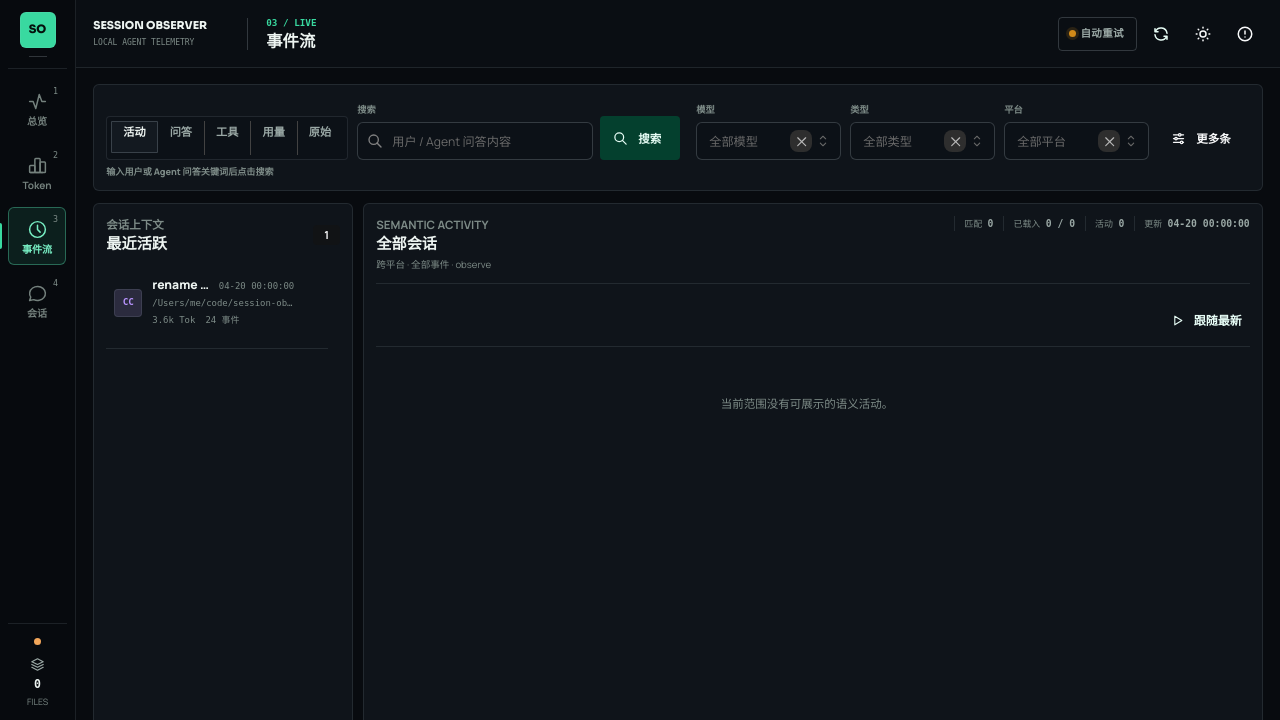
Test: App URL state › shows loading feedback while a submitted stream search is running
This screenshot has width=1280, height=720.
Type "incident" into the field with placeholder "用户 / Agent 问答内容". click: (475, 141)
box: [357,122,593,160]
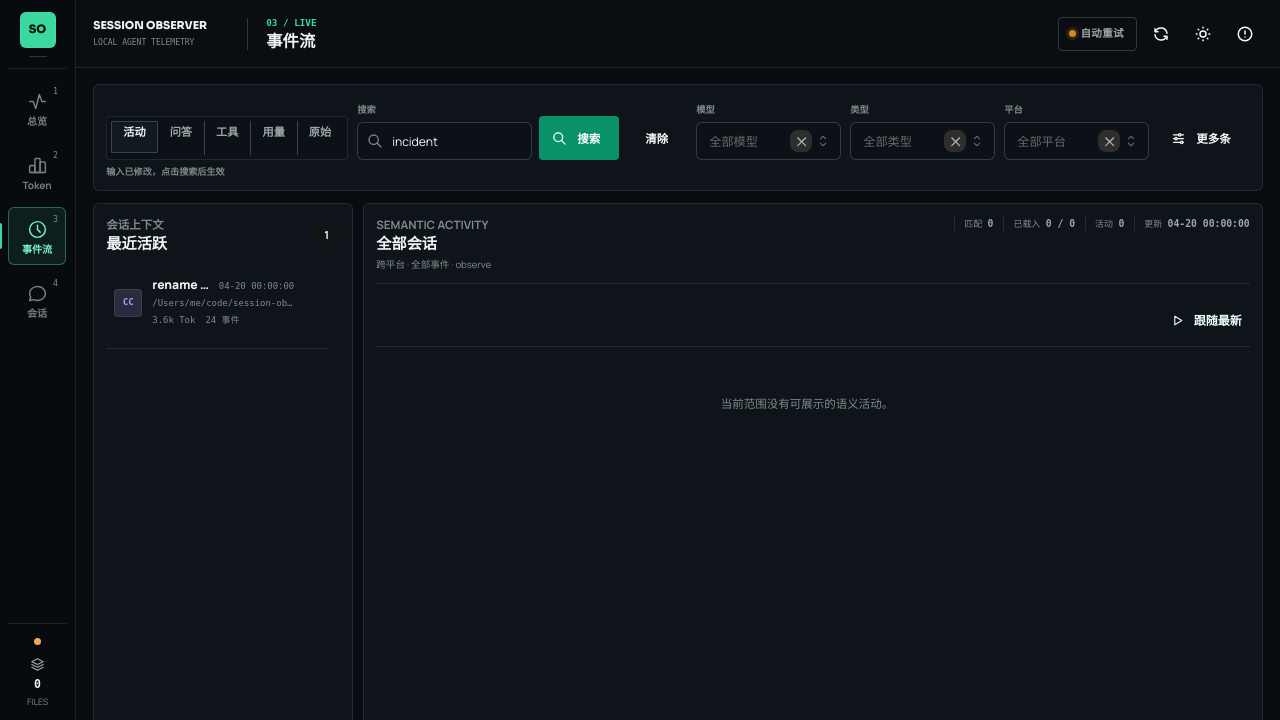
Click the button "搜索". click: (579, 138)
box: [539,116,619,160]
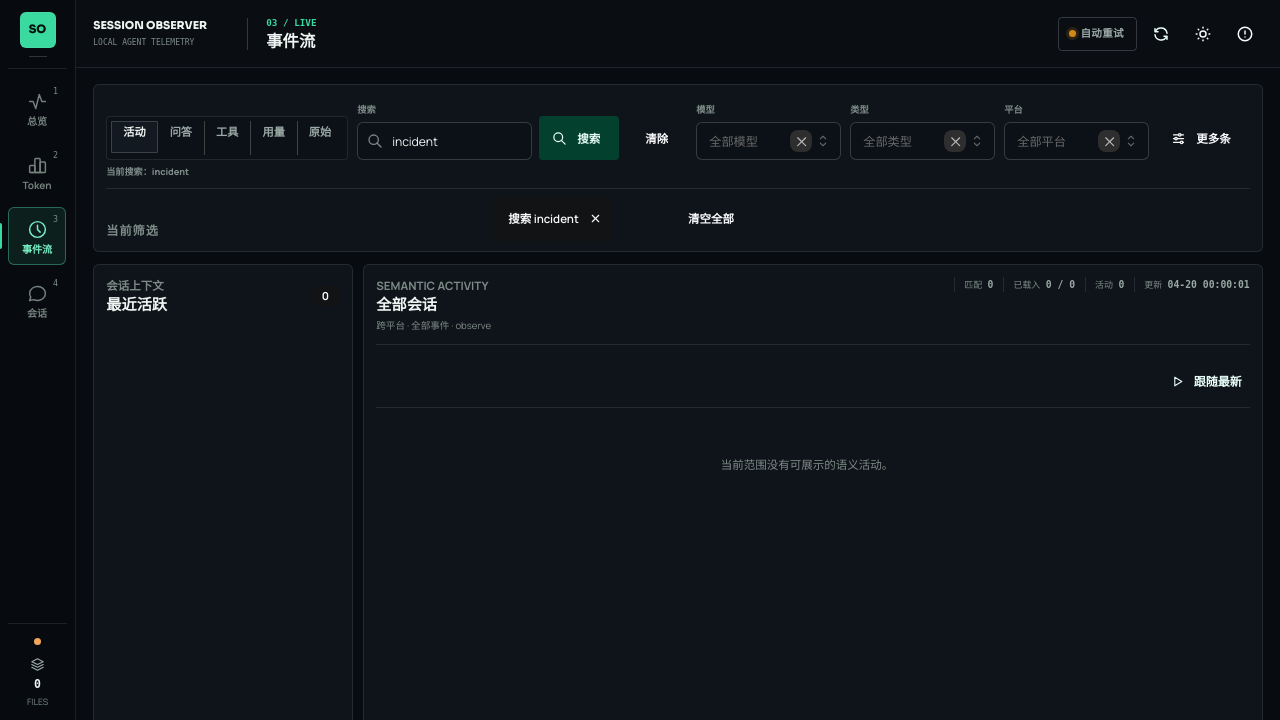
Check: the text "当前搜索：incident" is shown, box [106,165,189,178]
